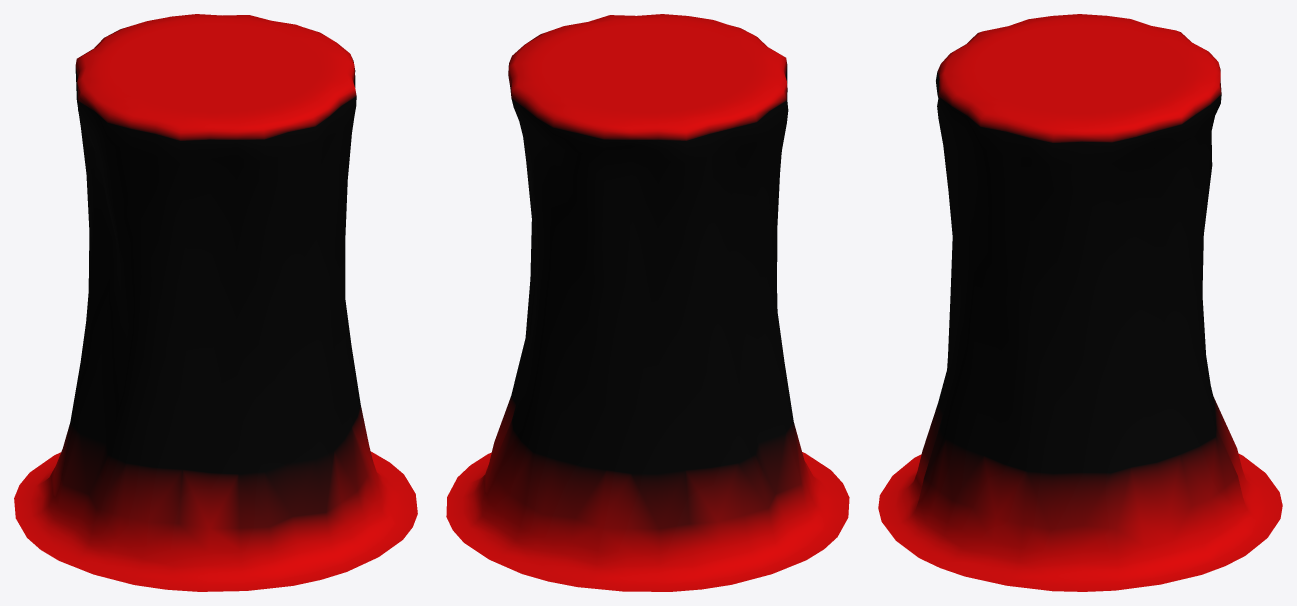
File: GroundObject08A.fbx
The picture shows the model from 3 angles, left to right: view 1: azimuth 30°, elevation 25°; view 2: azimuth 150°, elevation 25°; view 3: azimuth 270°, elevation 25°; orthographic projection.
Visible parts, largest first — view 1: GroundObject08A; view 2: GroundObject08A; view 3: GroundObject08A.
Part boxes in pixels (x1,y1,x2,y2): GroundObject08A: [14, 14, 417, 591]; GroundObject08A: [446, 14, 849, 591]; GroundObject08A: [878, 14, 1282, 591].
Bounding box in the file's own units: 1.68 × 2 × 1.68.
